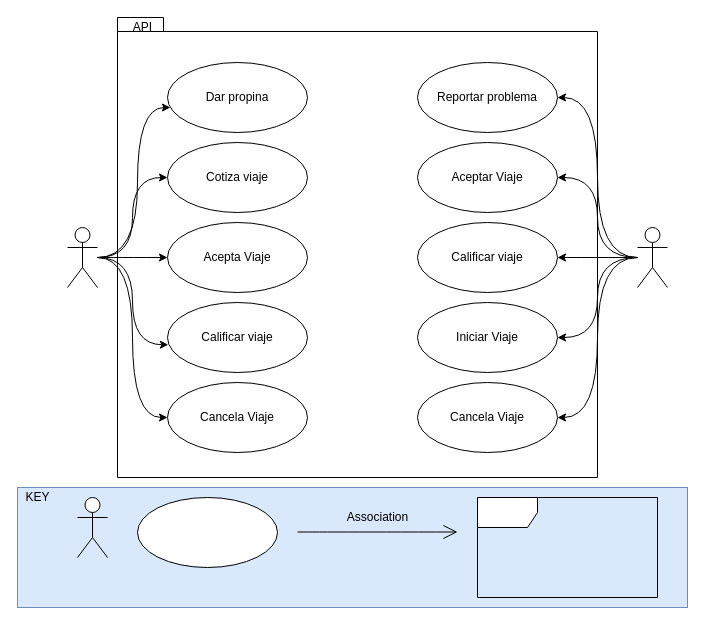
The diagram is 705 pixels wide and 625 high, and some of its shapes have lost their labels. Here are the shapes that lost their labels. From the top down, the box of each, then its label:
(66, 226, 98, 288): Pasajero
(636, 226, 668, 288): Socio
(76, 496, 108, 558): Actor
(136, 496, 278, 568): Use Case
(476, 496, 658, 598): System
